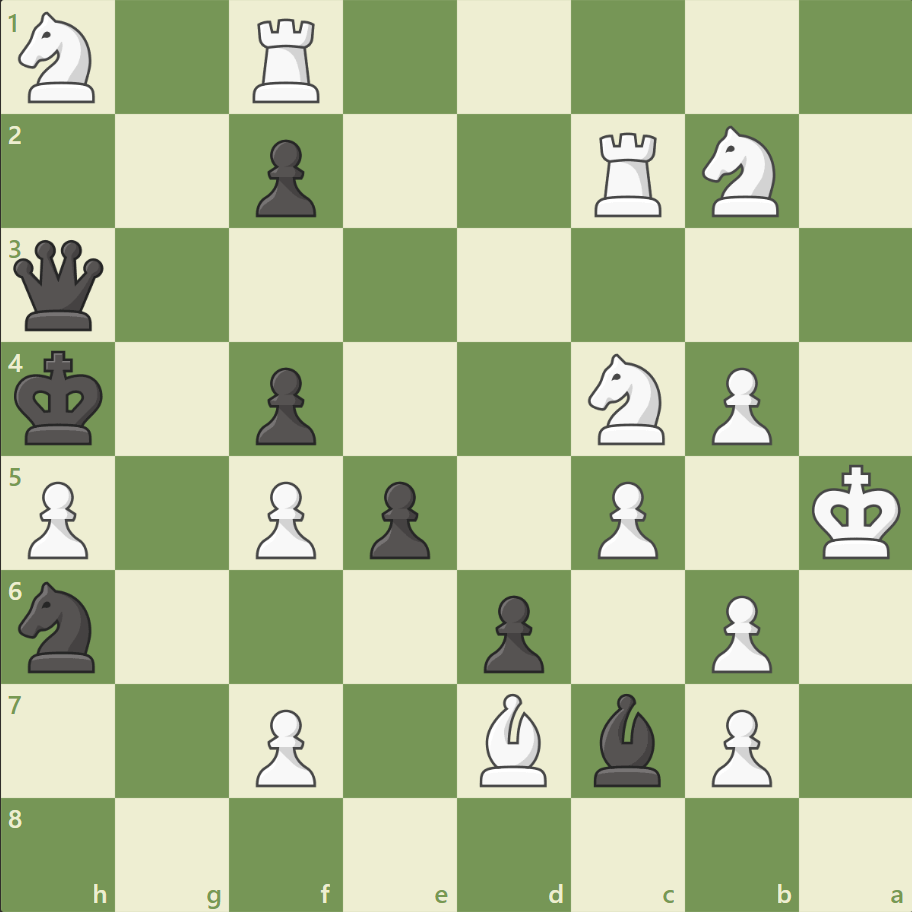B: (471, 687, 555, 790)
K: (806, 458, 906, 566)
N: (11, 7, 108, 110), (579, 348, 676, 450), (692, 121, 789, 223)
P: (701, 700, 776, 791), (247, 700, 322, 791), (701, 586, 776, 677), (247, 473, 322, 564), (20, 473, 95, 564), (701, 359, 776, 450), (588, 473, 662, 564)
R: (587, 125, 670, 222), (246, 12, 329, 109)
b: (585, 687, 669, 790)
k: (11, 344, 111, 452)
n: (11, 575, 108, 677)
p: (474, 586, 549, 677), (247, 359, 322, 450), (247, 132, 322, 223), (361, 473, 435, 564)
q: (10, 236, 109, 335)
